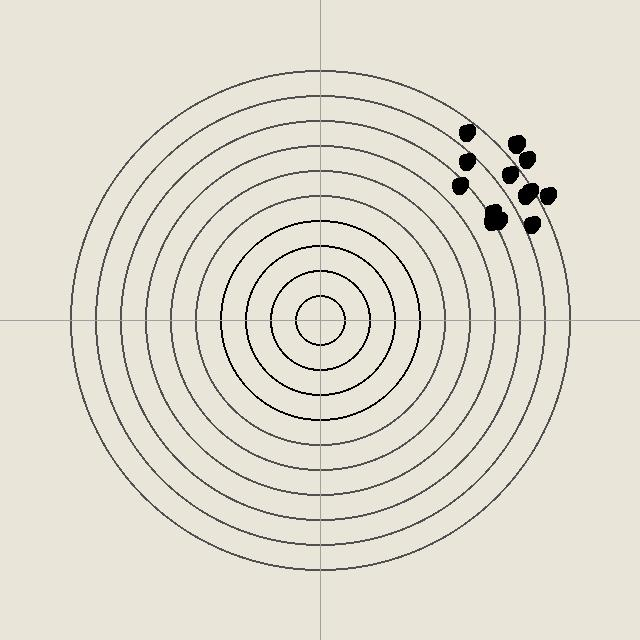good_group: (449, 175, 469, 195), (519, 181, 539, 201), (516, 149, 536, 169), (505, 133, 525, 153), (515, 185, 535, 205), (488, 210, 508, 230), (456, 122, 476, 142), (537, 185, 557, 205), (481, 211, 501, 231), (482, 202, 502, 222), (456, 151, 476, 171), (499, 164, 519, 184), (521, 214, 541, 234), (506, 134, 526, 154)
